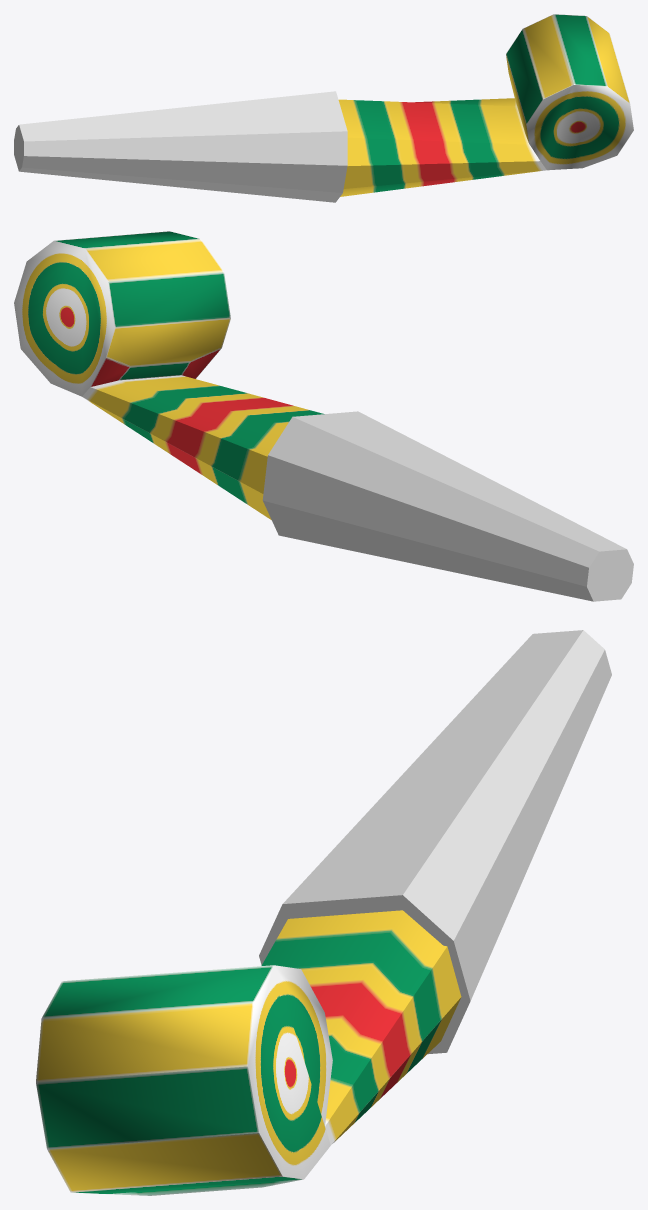
The model's file is Birthday_supplies03.fbx.
The picture shows the model from 3 angles, top to bottom: view 1: azimuth 30°, elevation 25°; view 2: azimuth 150°, elevation 25°; view 3: azimuth 270°, elevation 25°; orthographic projection. The views are drawn at different scales.
Visible parts, largest first — view 1: Birthday_supplies03; view 2: Birthday_supplies03; view 3: Birthday_supplies03.
Boxes of the visible parts, left/top/right/bottom form: Birthday_supplies03: left=14, top=14, right=633, bottom=202; Birthday_supplies03: left=14, top=231, right=633, bottom=601; Birthday_supplies03: left=36, top=630, right=611, bottom=1195.
Bounding box in the file's own units: 341 × 92.32 × 163.
2 materials, 1 textured.
